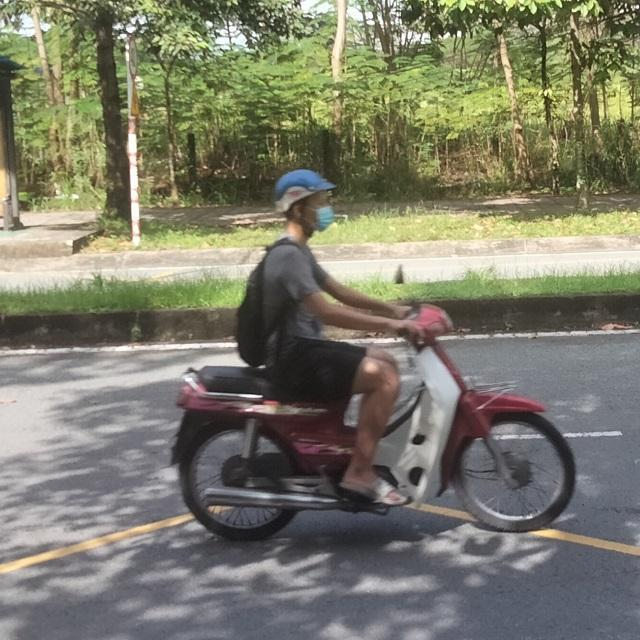Helmet: (274, 166, 342, 238)
